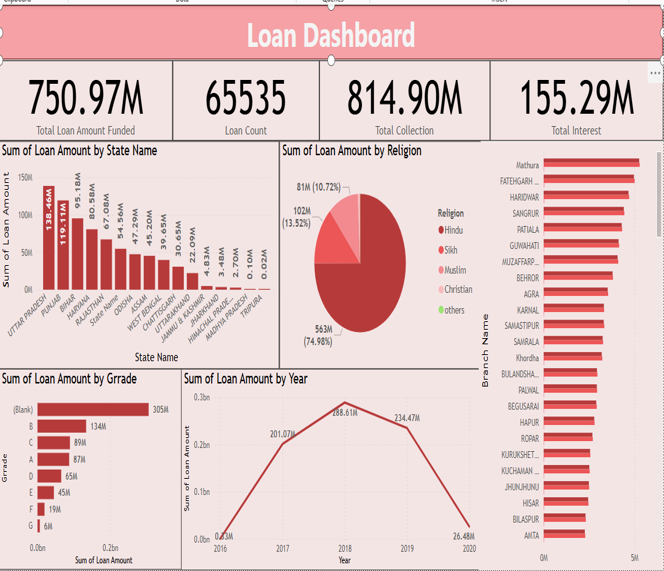

Layout of this report page (visuals, bound fields, positions):
{"tool":"tableau","page":{"name":"Dashboard 1","canvas":[1000,1000],"units":"permille","ordinal":0},"visuals":[{"type":"worksheet","title":"Total Loan Funded Amount","mark":"Automatic","box":[4.8,10,121.4,144.8]},{"type":"worksheet","title":"Total Loan","mark":"Automatic","box":[126.2,10,75.7,144.8]},{"type":"worksheet","title":"Total Collection","mark":"Automatic","box":[201.9,10,122,144.8]},{"type":"worksheet","title":"Total Interest","mark":"Automatic","box":[324,10,120.9,144.8]},{"type":"worksheet","title":"Default Loan","mark":"Automatic","box":[444.9,10,110.6,144.8]},{"type":"worksheet","title":"Delinquent Loan","mark":"Automatic","box":[555.4,10,121.5,144.8]},{"type":"worksheet","title":"Default Loan Rate","mark":"Automatic","box":[676.9,10,108.9,144.8]},{"type":"worksheet","title":"Delinquent Loan Rate","mark":"Automatic","box":[785.8,10,112.8,144.8]},{"type":"filter","title":"Branch-wise Perfomance","param":"[federated.0k5dk7v0utm83913nauem01jgkbv].[none:Branch Name:nk]","box":[898.6,10,96.6,980]},{"type":"worksheet","title":"Branch-wise Perfomance","mark":"Bar","cols":["Total Rrec int","Total Fees","Calculation_1017250630917292032"],"box":[4.8,154.8,257.6,344.6]},{"type":"worksheet","title":"State-wise Loan","mark":"Automatic","box":[262.4,154.8,216.2,511.9]},{"type":"worksheet","title":"Religion-wise Loan","mark":"Pie","box":[478.6,154.8,172.7,414.5]},{"type":"worksheet","title":"Disbursement Trend","mark":"Line","rows":["Loan Amount"],"cols":["Disbursement Date"],"box":[651.3,154.8,247.3,414.5]},{"type":"dashboard-object","box":[978.9,157.3,14.5,30]},{"type":"worksheet","title":"Product Group-wise Loan","mark":"Bar","rows":["Purpose Category"],"cols":["Loan Amount"],"box":[4.8,499.3,257.6,285.6]},{"type":"worksheet","title":"Loan Status-wise Loan","mark":"Automatic","rows":["Loan Status"],"cols":["Loan Amount"],"box":[478.6,569.2,210,420.8]},{"type":"worksheet","title":"Age Group-wise Loan","mark":"Pie","rows":["Calculation_671317884504694790","Calculation_671317884504694790"],"box":[688.6,569.2,210,420.8]},{"type":"worksheet","title":"No Verified Loans","mark":"Bar","rows":["Calculation_671317884499546116"],"cols":["Verification Status"],"box":[262.4,666.6,216.2,323.4]},{"type":"worksheet","title":"Grade-wise Loan","mark":"Automatic","rows":["Loan Amount"],"cols":["Grrade"],"box":[4.8,784.9,257.6,205.1]}]}

Visuals, with their boxes on the dashboard's canvas, which has no fixed pixel size, in thousandths of its width and height (x1, y1, x2, y2). These are canvas units, not pixel positions in the 664x571 screenshot, which may show the page scaled, cropped or inside an application window:
"Total Loan Funded Amount" worksheet: l=5, t=10, r=126, b=155
"Total Loan" worksheet: l=126, t=10, r=202, b=155
"Total Collection" worksheet: l=202, t=10, r=324, b=155
"Total Interest" worksheet: l=324, t=10, r=445, b=155
"Default Loan" worksheet: l=445, t=10, r=556, b=155
"Delinquent Loan" worksheet: l=555, t=10, r=677, b=155
"Default Loan Rate" worksheet: l=677, t=10, r=786, b=155
"Delinquent Loan Rate" worksheet: l=786, t=10, r=899, b=155
"Branch-wise Perfomance" filter: l=899, t=10, r=995, b=990
"Branch-wise Perfomance" worksheet (Bar marks): l=5, t=155, r=262, b=499
"State-wise Loan" worksheet: l=262, t=155, r=479, b=667
"Religion-wise Loan" worksheet (Pie marks): l=479, t=155, r=651, b=569
"Disbursement Trend" worksheet (Line marks): l=651, t=155, r=899, b=569
dashboard-object: l=979, t=157, r=993, b=187
"Product Group-wise Loan" worksheet (Bar marks): l=5, t=499, r=262, b=785
"Loan Status-wise Loan" worksheet: l=479, t=569, r=689, b=990
"Age Group-wise Loan" worksheet (Pie marks): l=689, t=569, r=899, b=990
"No Verified Loans" worksheet (Bar marks): l=262, t=667, r=479, b=990
"Grade-wise Loan" worksheet: l=5, t=785, r=262, b=990
